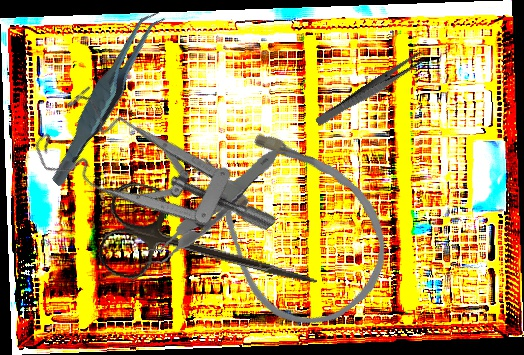Cannula: (171, 93, 415, 351)
Dressing Forceps: (314, 50, 427, 130)
Iris Scissors: (94, 178, 330, 323)
Speculum: (23, 52, 279, 312)
Tissue Forceps: (18, 5, 195, 189), (120, 147, 293, 269)
